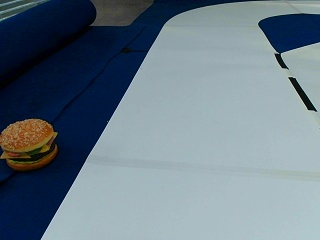burger: (0, 117, 58, 169)
